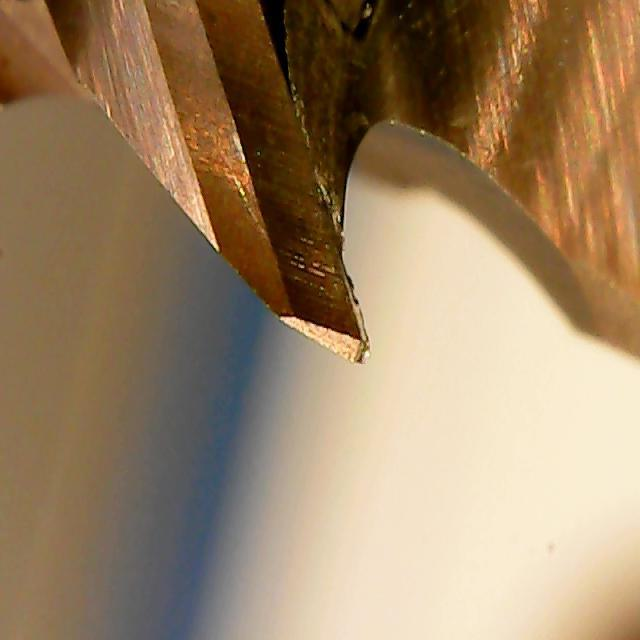Tool-wear-class-1: (214, 45, 378, 382)
